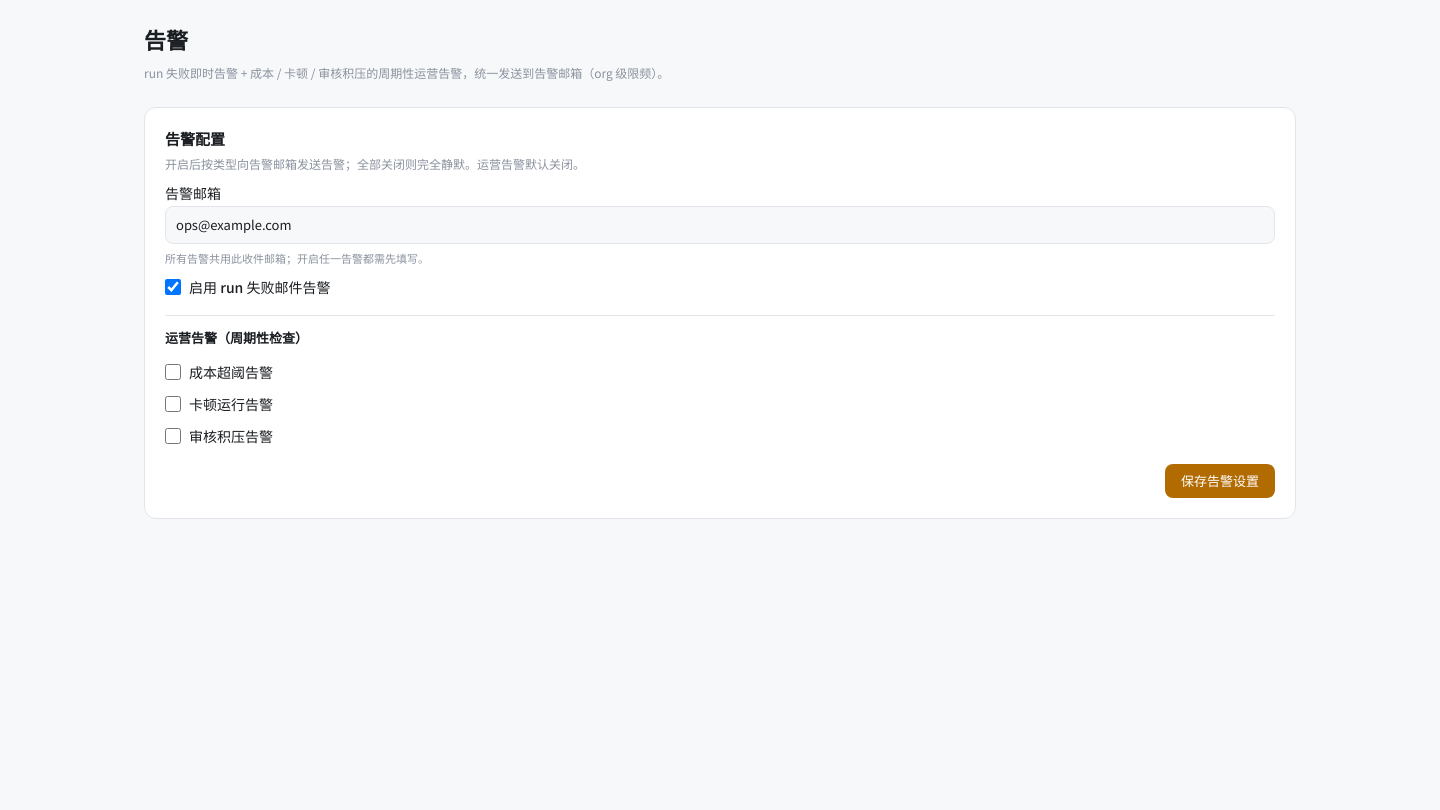
it: AlertSettingsView › blocks save when enabled without email (no mutation, toast error)
Clear the field labelled "告警邮箱" at (720, 225), box [165,206,1275,244]
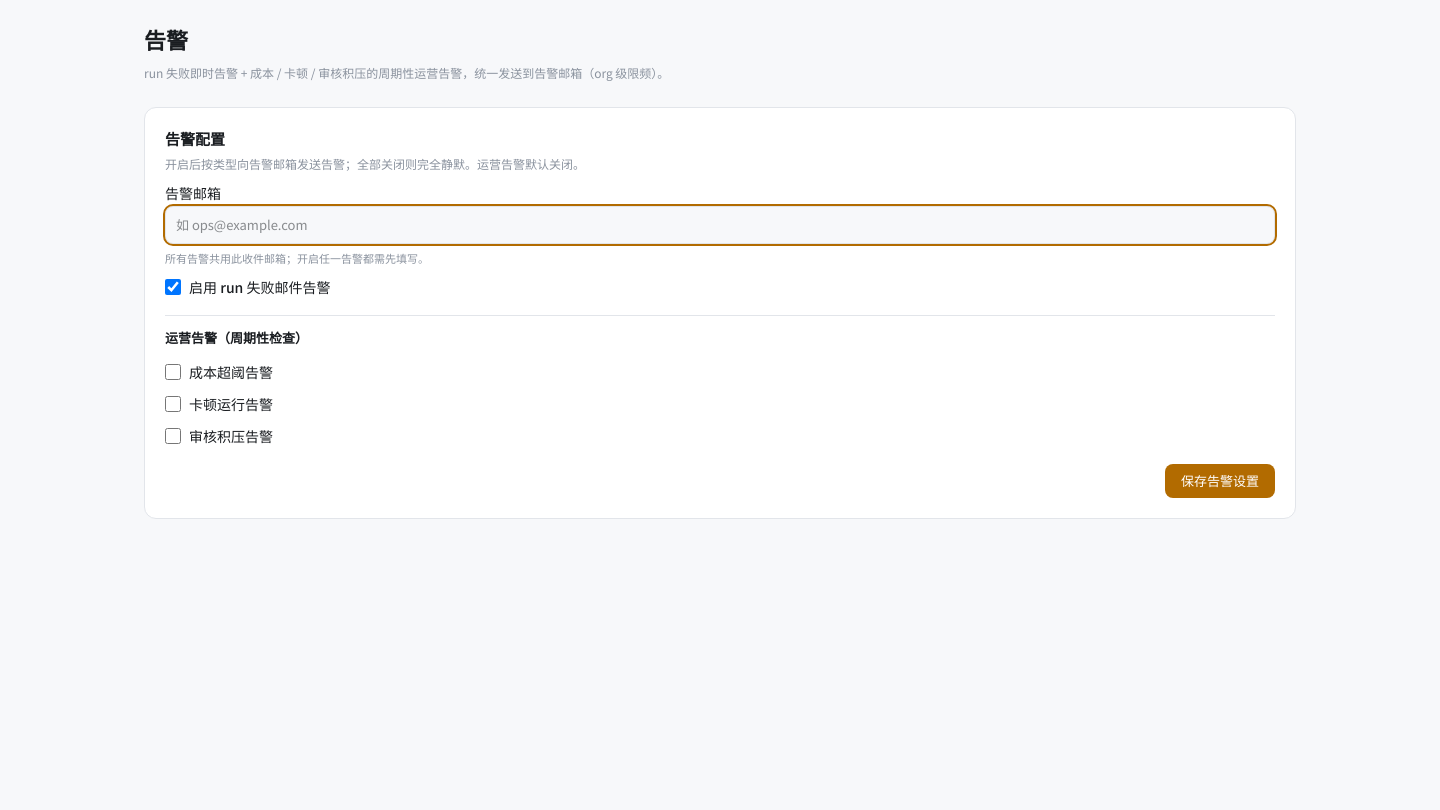
Click the button "保存告警设置".
click(1220, 481)  # box [1165,464,1275,498]
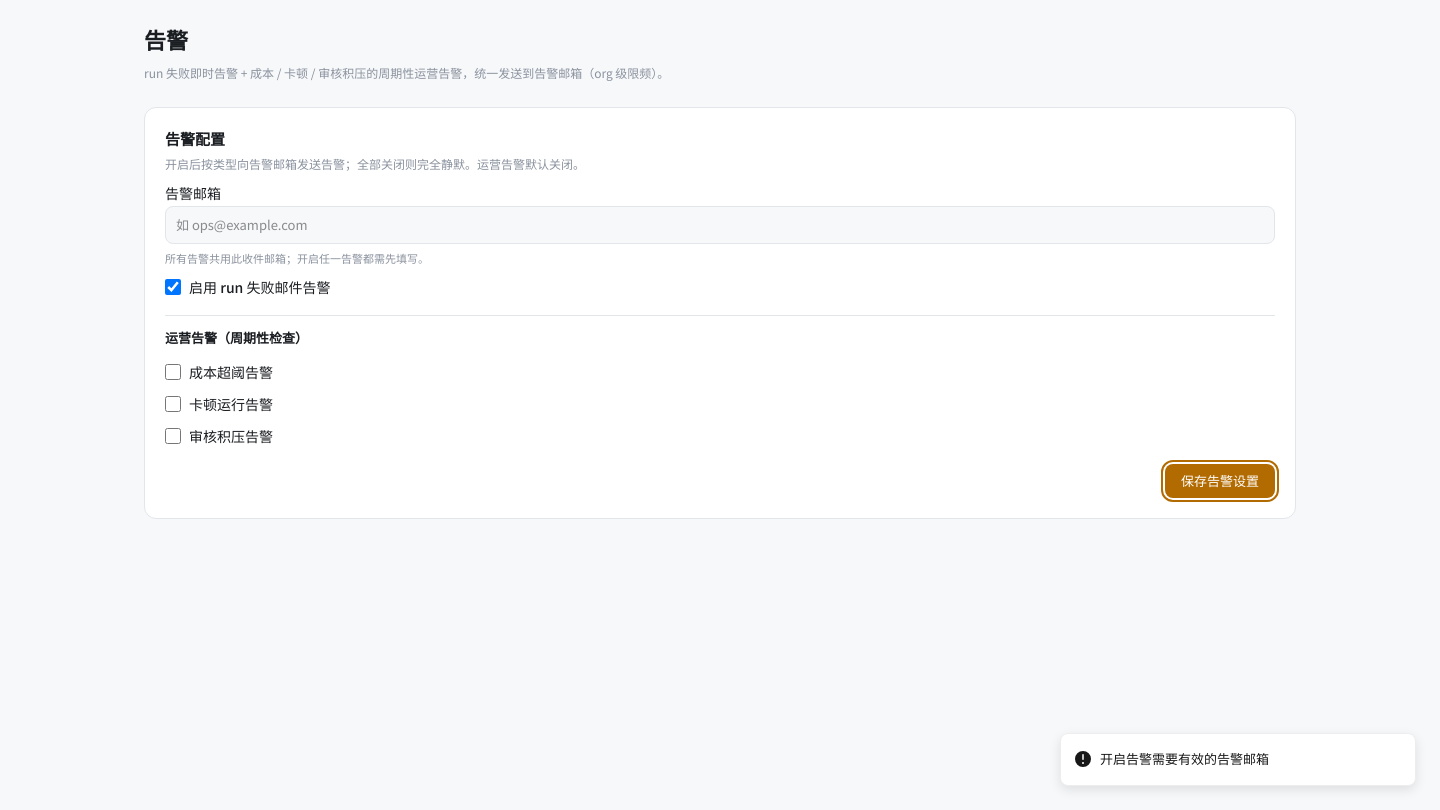
Expected: the text "开启告警需要有效的告警邮箱" is shown, [1100,750,1269,769]
